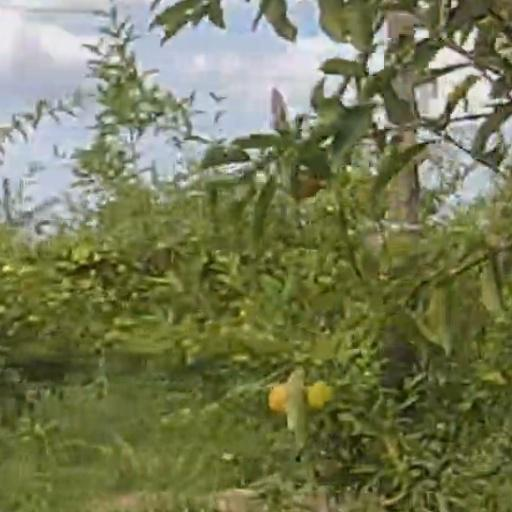acerola: (308, 383, 332, 406), (270, 387, 287, 410)
